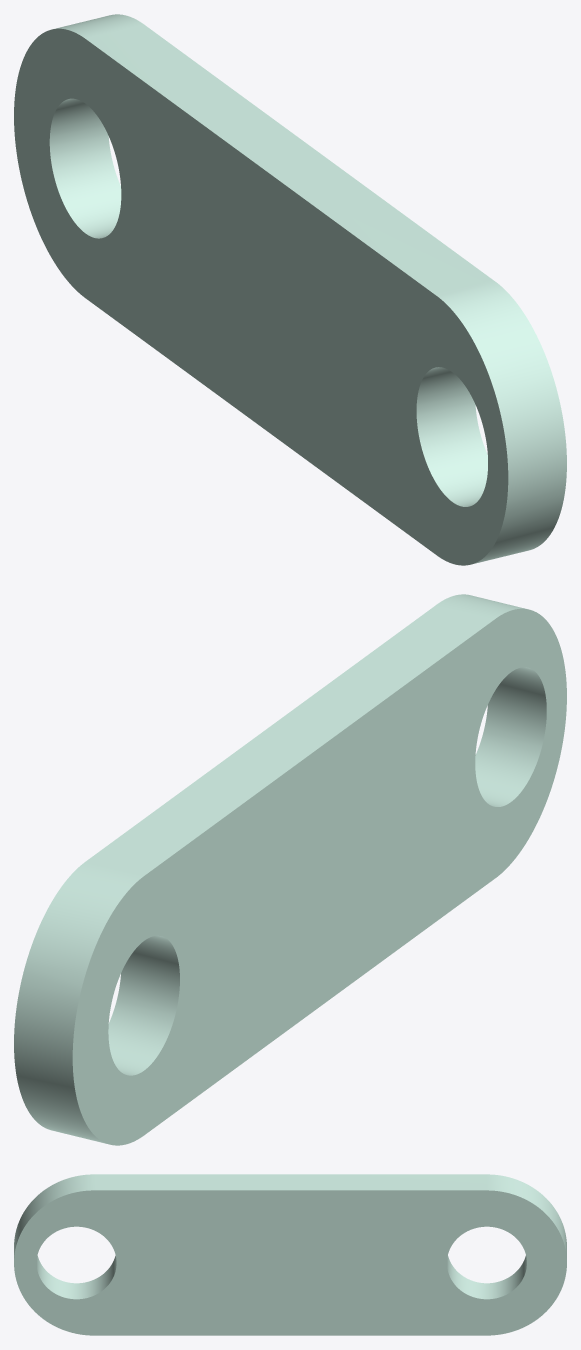
3 renders of one model, top to bottom at view 1: azimuth 30°, elevation 25°; view 2: azimuth 150°, elevation 25°; view 3: azimuth 270°, elevation 25°, orthographic. The views are drawn at different scales.
Visible parts, largest first — view 1: Renderer Node; view 2: Renderer Node; view 3: Renderer Node.
Part boxes in pixels (x1,y1,x2,y2): Renderer Node: (14, 14, 566, 565); Renderer Node: (14, 594, 566, 1145); Renderer Node: (14, 1174, 566, 1335).
Size of the model in its own units: 0.1016 by 0.429 by 1.48.
